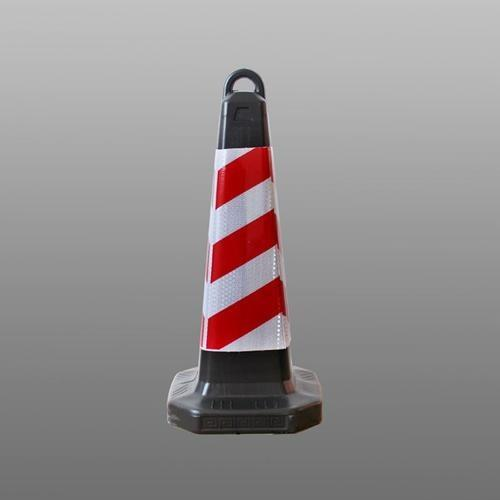cone_barrel: (168, 72, 321, 416)
